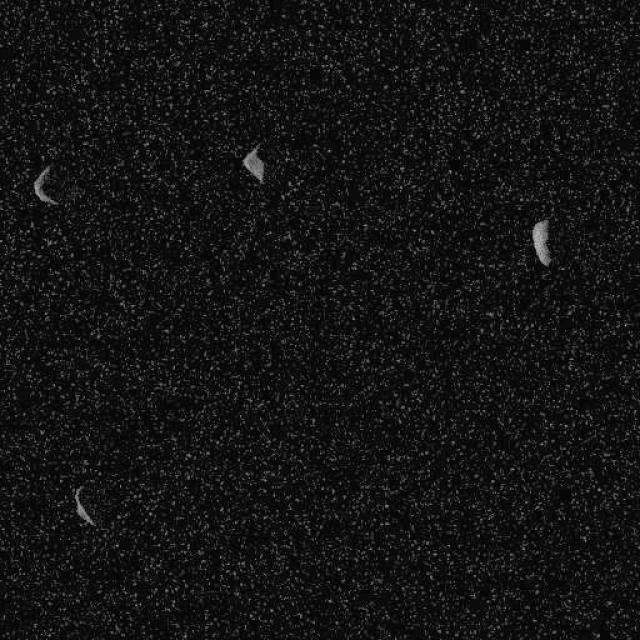D2: (31, 162, 59, 206), (530, 218, 551, 266), (72, 485, 96, 527), (241, 142, 265, 182)
